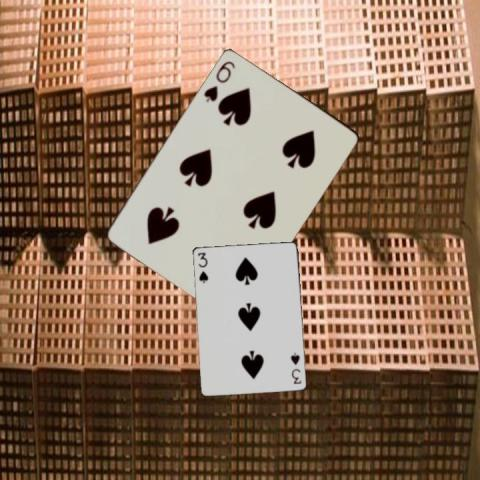3s: (288, 350, 303, 385), (195, 250, 209, 285)
6s: (200, 57, 236, 103)
